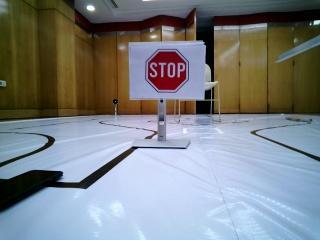stop: (138, 46, 197, 96)
